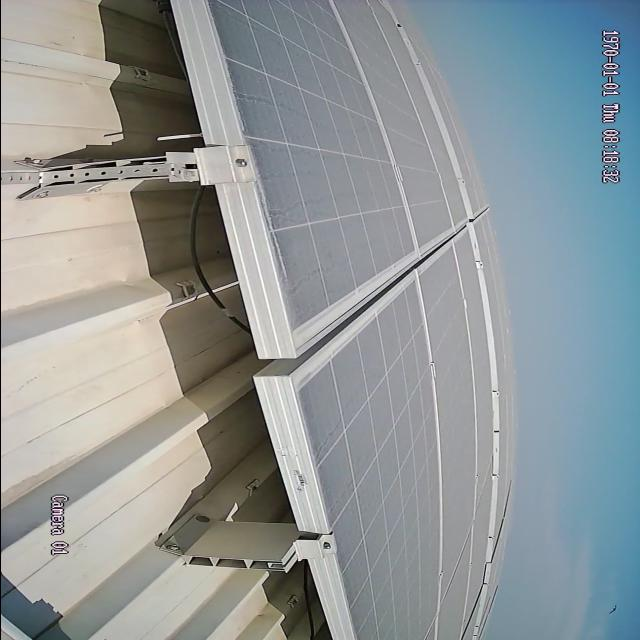interior panel: (298, 219, 468, 379)
outher panel: (0, 0, 349, 640)
